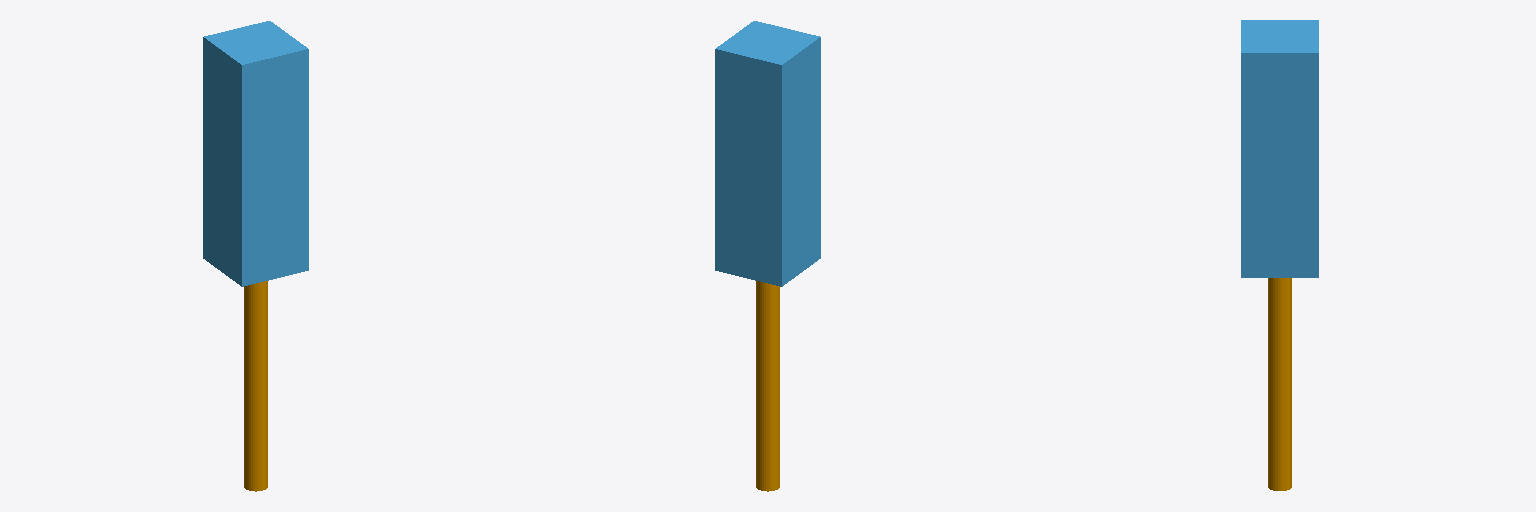
The robot description file, URDF, robot "screwdriver_on_the_table":
<?xml version="1.0" ?>
<!-- this is the one without any virtual joints and links -->
<robot name="screwdriver_on_the_table">
<link name="screwdriver_stick">
    <inertial>
      <mass value="0.05"/>
      <!-- <friction value="1.0"/> -->
      <inertia ixx="0.000041979" ixy="0.0" ixz="0.0" iyy="0.000041979" iyz="0.0" izz="0.000000625"/>
    </inertial>
    <visual>
        <origin rpy="0 0 0" xyz="0 0 0.05"/>
        <geometry>
            <cylinder radius="0.005" length="0.1"/>
        </geometry>
        <!-- <material name="White">
	 	    <color rgba="0.9 0.9 0.9 0.5"/>
        </material> -->
    </visual>
    <collision>
        <origin rpy="0 0 0" xyz="0 0 0.05"/>
        <geometry>
            <cylinder radius="0.005" length="0.1"/>
        </geometry>
    </collision>
</link>

<gazebo reference="screwdriver_body">
    <mu1>1.371530</mu1>
    <mu2>1.075385</mu2>
    <!-- Isaac Sim maps mu1/mu2 to PhysX static/dynamic friction during URDF→USD import -->
</gazebo>

<joint name="screwdriver_stick_body_joint" type="fixed">
    <parent link="screwdriver_stick"/>
    <child link="screwdriver_body"/>
    <origin rpy="0 0 0" xyz="0 0 0.1"/> 
    <axis xyz="0 0 1"/>
</joint>

<link name="screwdriver_body">
    <inertial>
      <mass value="0.051882"/>
      <inertia ixx="0.000047596" ixy="0.0" ixz="0.0" iyy="0.000047529" iyz="0.0" izz="0.000010000"/>
    </inertial>
    <visual>
        <origin rpy="0 0 0" xyz="0 0 0.05"/>
        <geometry>
            <box size="0.031516 0.031759 0.100000"/>
        </geometry>
        <!-- <material name="Red1">
	 	    <color rgba="0.9 0. 0. 0.5"/>
        </material> -->
    </visual>
    <collision>
        <origin rpy="0 0 0" xyz="0 0 0.05"/>
        <geometry>
            <box size="0.031516 0.031759 0.100000"/>
        </geometry>
    </collision>
</link>

<!-- <joint name="screwdriver_body_cap_joint" type="revolute">
    <parent link="screwdriver_body"/>
    <child link="screwdriver_cap"/>
    <origin rpy="0 0 0" xyz="0 0 0.1"/> 
    <axis xyz="0 0 1"/>
</joint>

<link name="screwdriver_cap">
    <inertial>
      <mass value="0.005"/>
      <inertia ixx="0.00001" ixy="0.0" ixz="0.0" iyy="0.000005" iyz="0.0" izz="0.000005"/>
    </inertial>
    <visual>
        <origin rpy="0 0 0" xyz="0 0 0.0006"/>
        <geometry>
            <cylinder radius="0.02" length="0.001"/>
        </geometry>
        <material name="Yellow">
	 	    <color rgba="0.9 0.9 0. 1.0"/>
        </material>
    </visual>
    <collision>
        <origin rpy="0 0 0" xyz="0 0 0.0005"/>
        <geometry>
            <cylinder radius="0.02" length="0.001"/>
        </geometry>
    </collision>
</link> -->

</robot>

--- Facts derived from the render (not from the file) ---
Views: 3 orthographic renders of the robot side by side, from view 1: azimuth 30°, elevation 25°; view 2: azimuth 150°, elevation 25°; view 3: azimuth 270°, elevation 25°.
Robot: screwdriver_on_the_table — 2 links, 1 joints (1 fixed); root link screwdriver_stick; default pose: all joints at 0.
Links seen in each view (by area): view 1: screwdriver_body, screwdriver_stick; view 2: screwdriver_body, screwdriver_stick; view 3: screwdriver_body, screwdriver_stick.
Link boxes in pixels (x1,y1,x2,y2): screwdriver_body: [203, 21, 308, 286]; screwdriver_stick: [244, 281, 267, 491]; screwdriver_body: [715, 21, 820, 286]; screwdriver_stick: [756, 281, 779, 491]; screwdriver_body: [1241, 20, 1318, 277]; screwdriver_stick: [1268, 278, 1291, 490].
Size in the robot's own frame: 0.0315 by 0.0318 by 0.2 metres.
Geometry: primitives only (box / cylinder / sphere), no mesh files.
